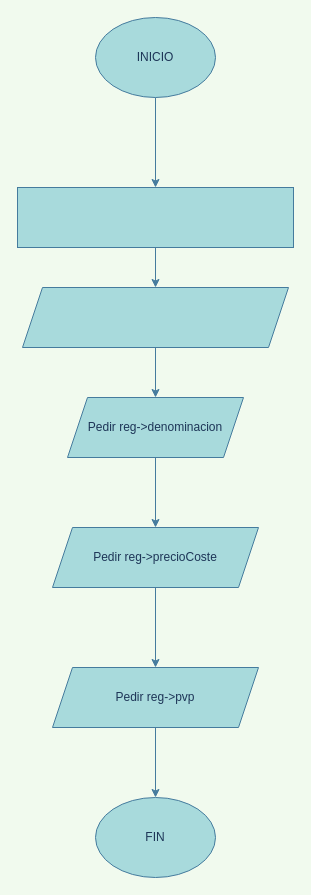
The diagram is 311 pixels wide and 895 high, and some of its shapes have lost their labels. Each missing label, with the box of its shape:
Mostrar N Servicio reg->nServicio: (22, 286, 288, 348)
reg->nServicio=numSiguienteServicio: (16, 186, 294, 248)
